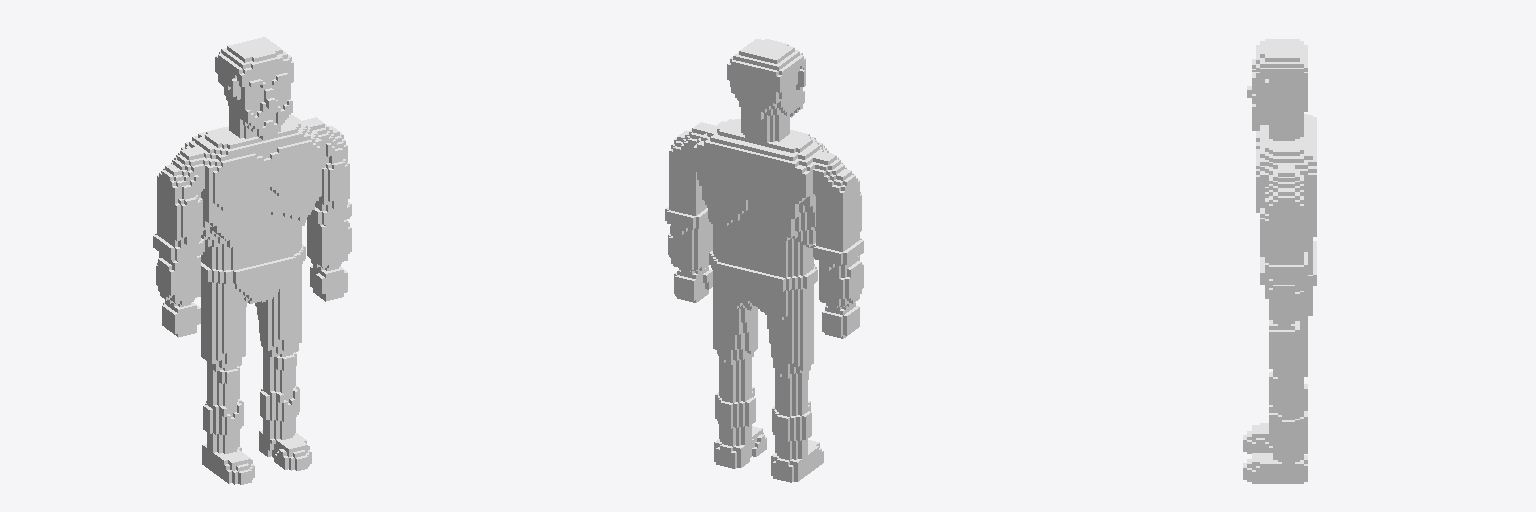
File: Hero.obj
3 views of the same model, side by side, from view 1: azimuth 30°, elevation 25°; view 2: azimuth 150°, elevation 25°; view 3: azimuth 270°, elevation 25° (orthographic).
Parts seen in each view (by area): view 1: object 1; view 2: object 1; view 3: object 1.
Boxes of the visible parts, <box> form: object 1: <box>153,37,351,484</box>; object 1: <box>665,39,863,482</box>; object 1: <box>1243,39,1316,483</box>.
Bounding box in the file's own units: 4.8 × 10.5 × 1.7.